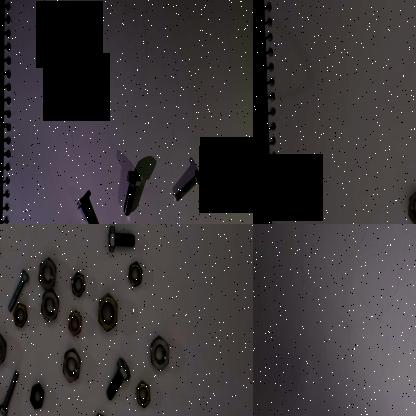Bolts: (117, 158, 144, 218), (170, 159, 202, 207), (104, 353, 131, 401), (5, 266, 29, 314), (73, 188, 102, 224), (0, 363, 19, 416), (105, 224, 135, 254)
NUTS: (97, 290, 119, 335), (149, 334, 170, 374), (36, 290, 58, 324), (35, 257, 58, 289), (62, 348, 80, 384), (69, 266, 86, 300), (132, 380, 152, 408), (28, 377, 44, 411), (66, 309, 82, 337), (12, 300, 27, 328), (128, 258, 142, 288), (406, 187, 416, 224), (0, 332, 5, 368)
